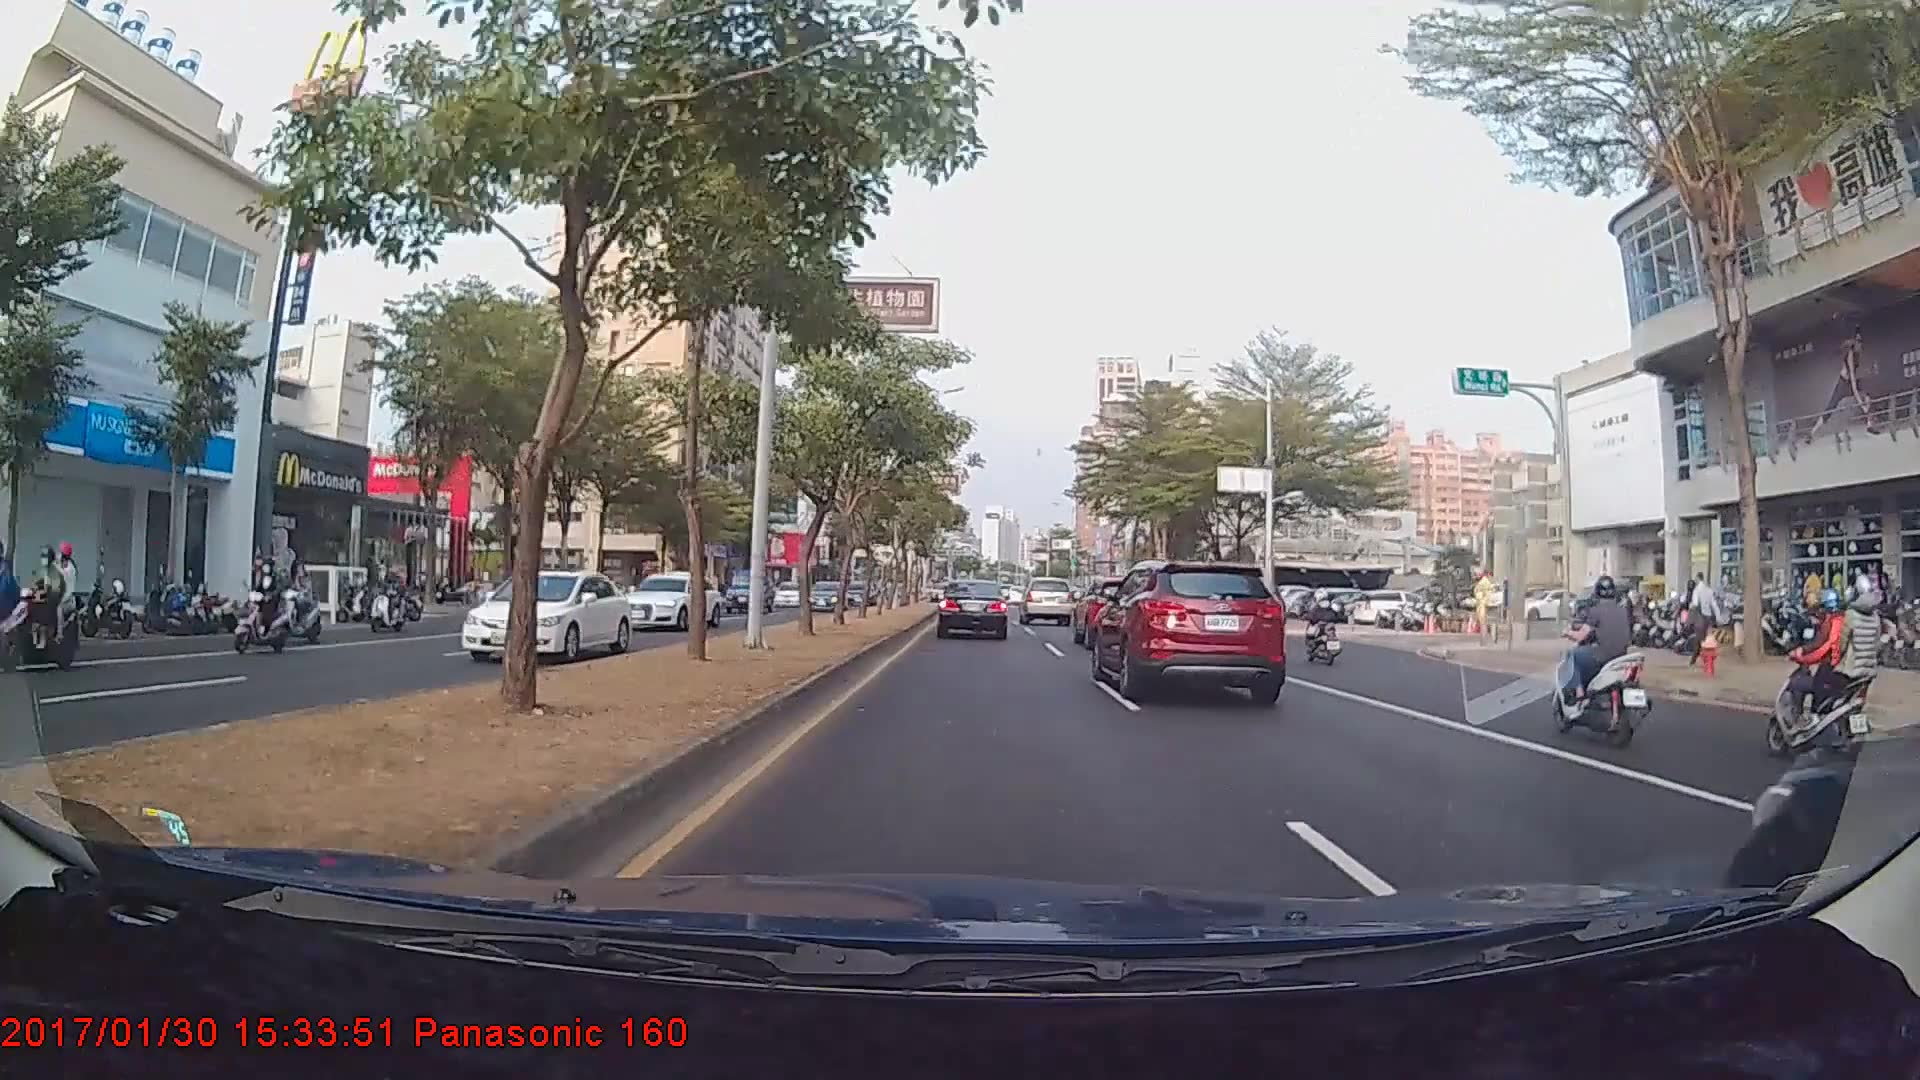pedestrian: (1687, 571, 1721, 665)
rider: (1769, 571, 1893, 745), (1543, 572, 1663, 746), (1, 543, 88, 670), (227, 554, 300, 662), (366, 566, 424, 644), (1300, 586, 1347, 668)
vehicle: (1739, 543, 1920, 926), (1099, 558, 1283, 697), (458, 571, 632, 667), (1072, 577, 1169, 654), (608, 575, 720, 632), (935, 577, 1009, 640), (1019, 575, 1076, 626), (725, 570, 775, 614)
